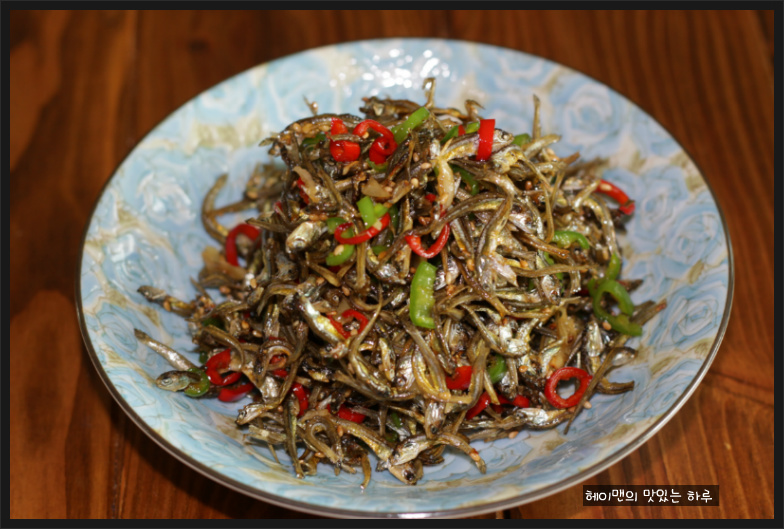myeolchibokk-eum: (166, 87, 654, 473)
